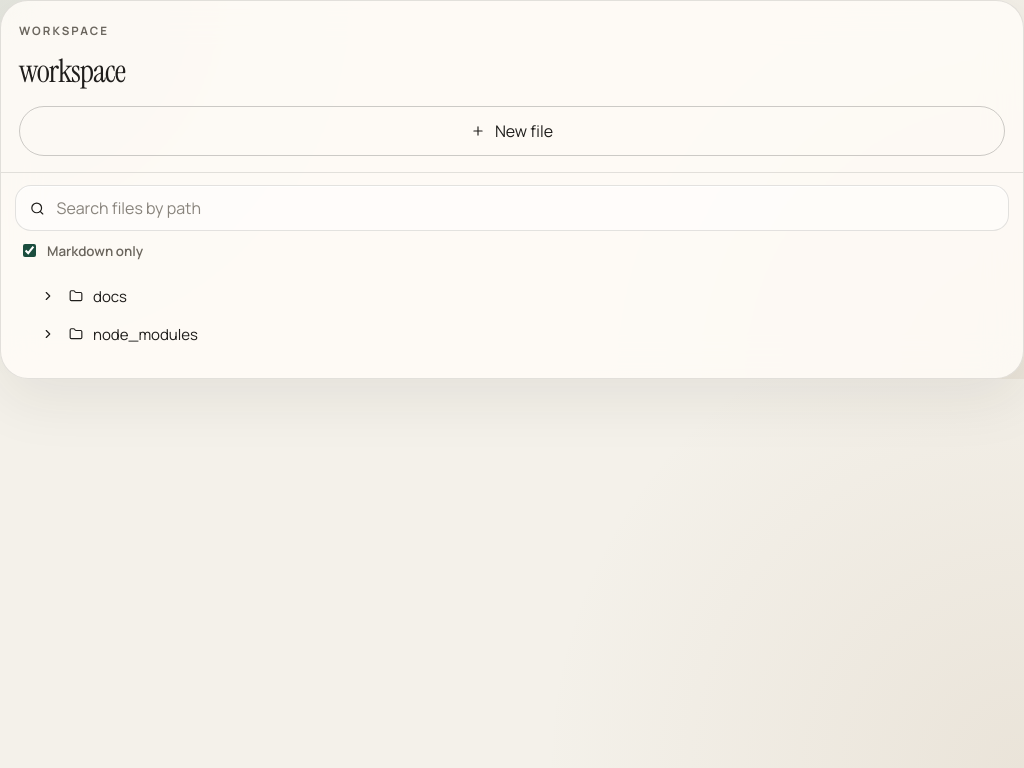
it: Sidebar › skips common generated directories when building the search index
Click the checkbox labelled "Markdown only". click: [30, 250]
box: top-left (23, 244), bottom-right (36, 257)
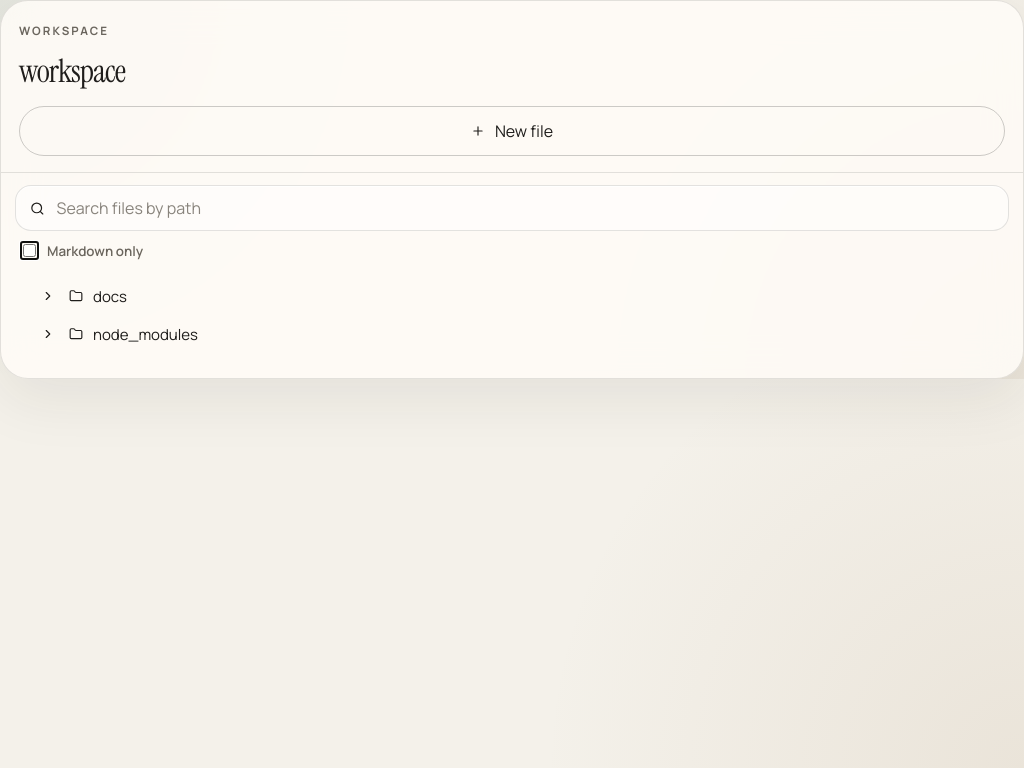
Type "react" into the search field labelled "Search files". click: [524, 208]
box: top-left (55, 196), bottom-right (994, 220)
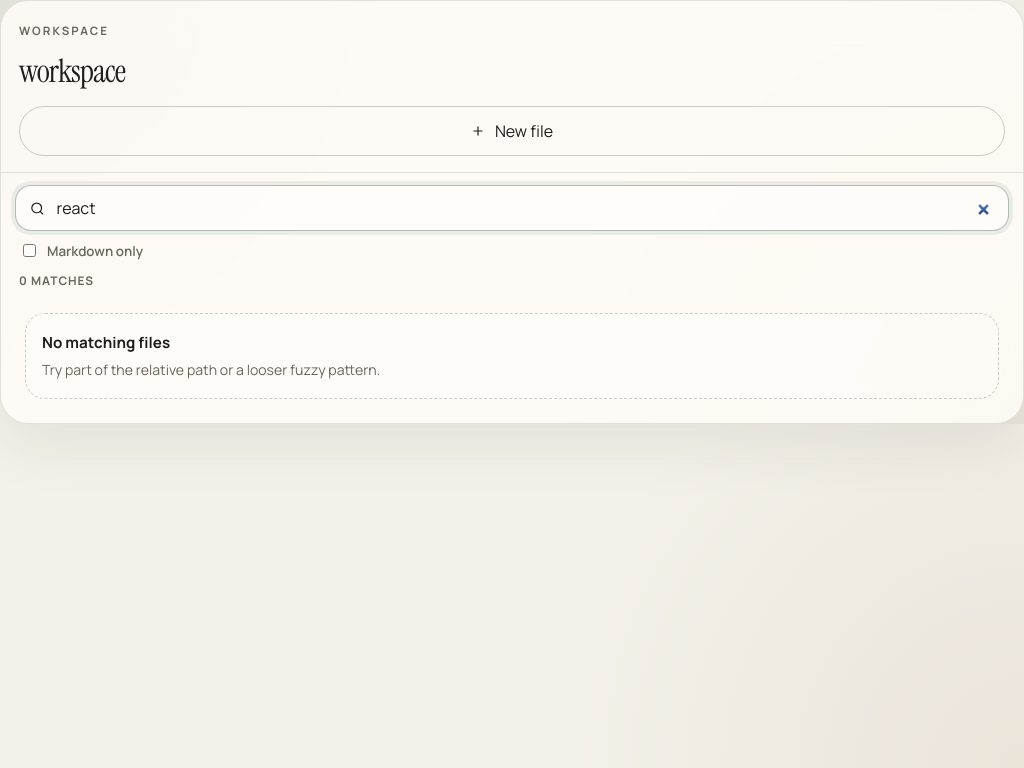
Result: the text "No matching files" is shown at top-left (42, 332), bottom-right (170, 353)
